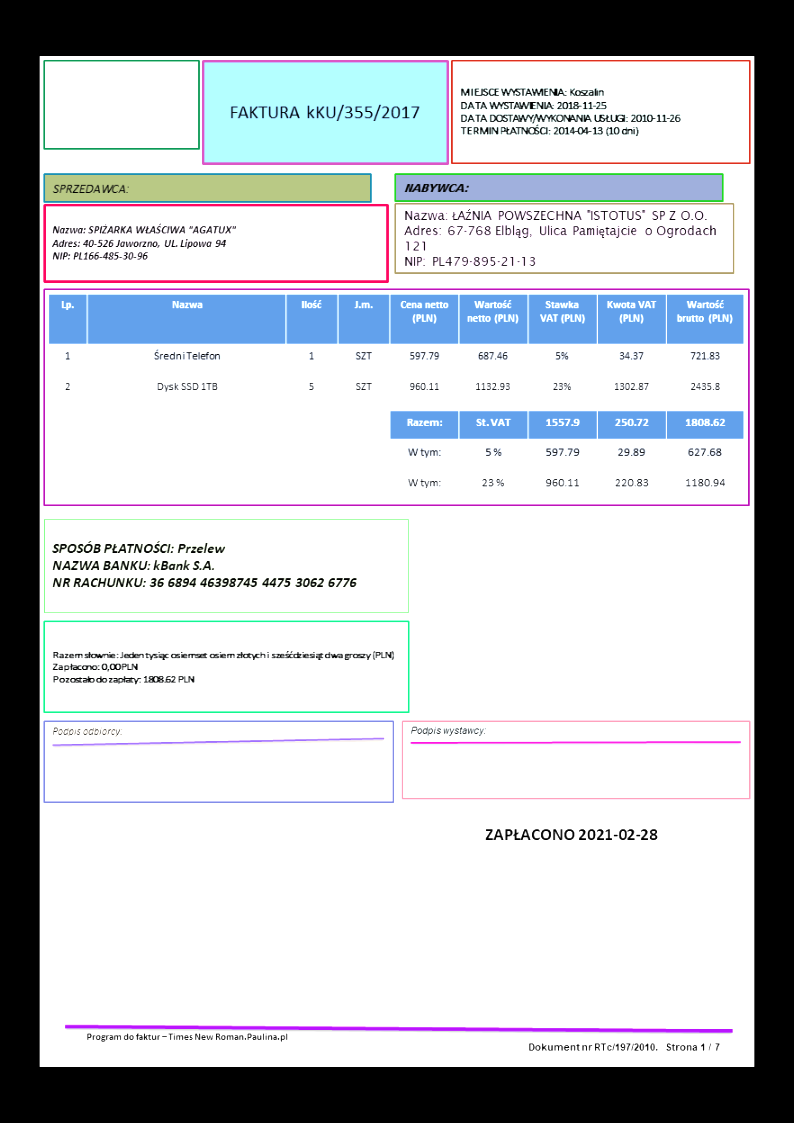Table: (47, 293, 744, 407), (389, 409, 746, 503)
TextBox: (401, 206, 717, 269), (49, 536, 358, 593), (51, 646, 399, 687), (458, 82, 681, 139), (50, 222, 238, 262), (228, 101, 421, 124), (483, 825, 660, 843), (527, 1039, 725, 1054), (83, 1030, 291, 1044), (50, 179, 131, 197), (409, 723, 489, 739), (50, 722, 123, 739), (402, 179, 471, 196)
